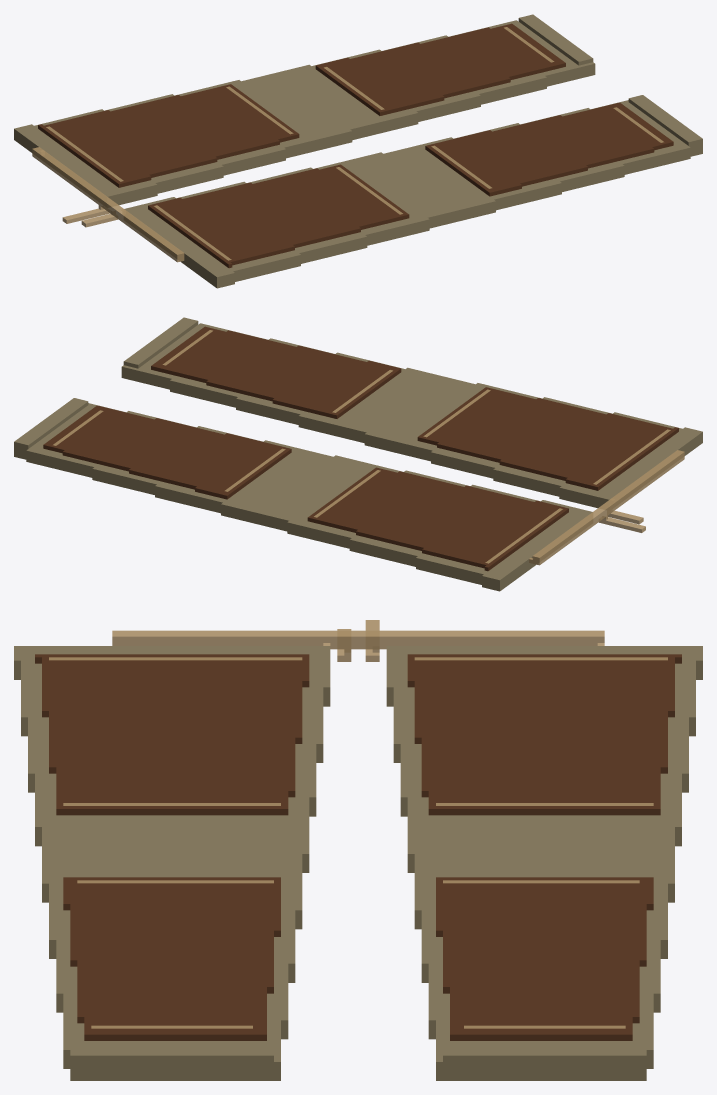
File: survivor_adhoc_leather_sleeves.glb
3 views of the same model, one above another, from view 1: azimuth 30°, elevation 25°; view 2: azimuth 150°, elevation 25°; view 3: azimuth 270°, elevation 25° (orthographic). The views are drawn at different scales.
Parts seen in each view (by area): view 1: survivor_adhoc_leather_sleeves:compound; view 2: survivor_adhoc_leather_sleeves:compound; view 3: survivor_adhoc_leather_sleeves:compound.
Part boxes in pixels (<box>): survivor_adhoc_leather_sleeves:compound: <box>14,14,702,288</box>; survivor_adhoc_leather_sleeves:compound: <box>14,317,702,591</box>; survivor_adhoc_leather_sleeves:compound: <box>14,620,702,1080</box>.
Size of the model in its own units: 0.612 by 0.016 by 0.392.
